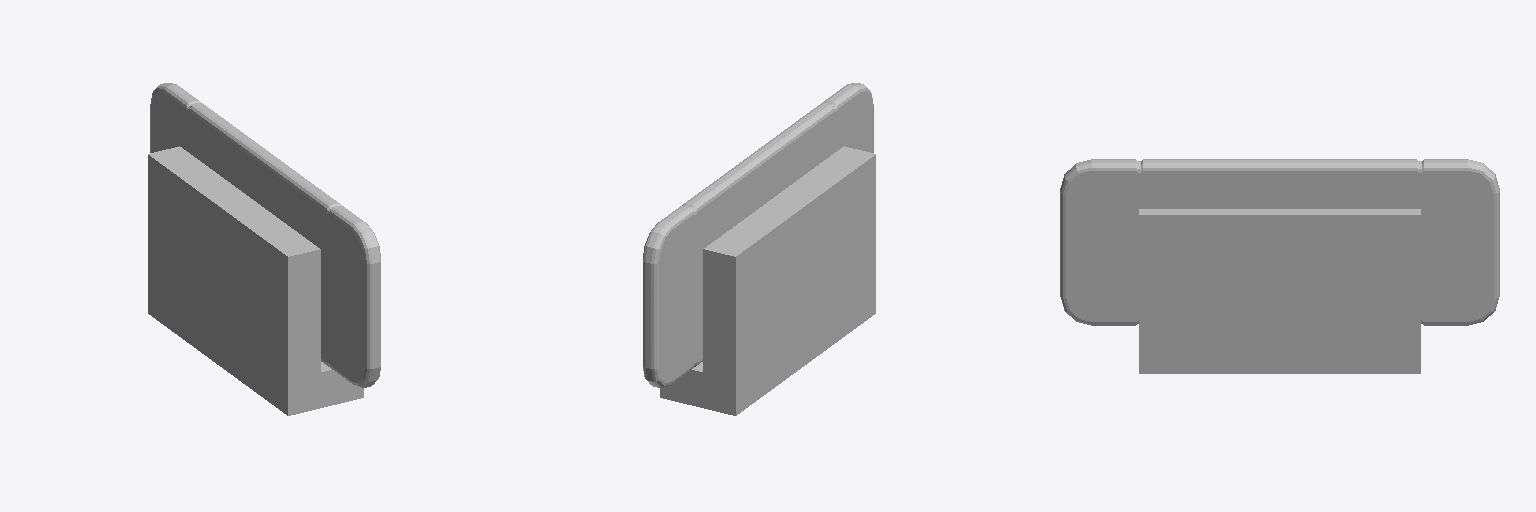
File: Switch.obj
3 views of the same model, side by side, from view 1: azimuth 30°, elevation 25°; view 2: azimuth 150°, elevation 25°; view 3: azimuth 270°, elevation 25° (orthographic).
Size of the model in its own units: 0.05 by 0.125 by 0.25.